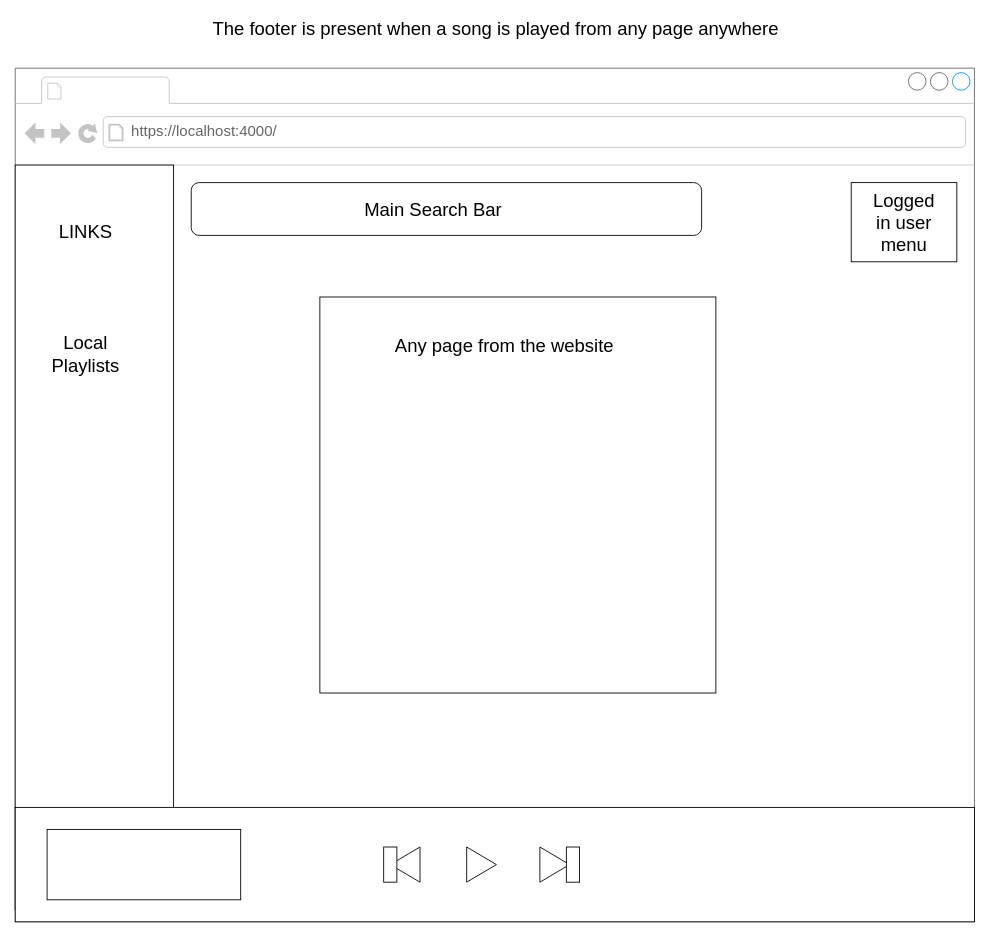
This 991x937 diagram has some shape labels left out. The centre of each missing label's shape, as x and y in pixels:
"Song information" goes at (143,864).
"Spotify Clone" goes at (116,90).
